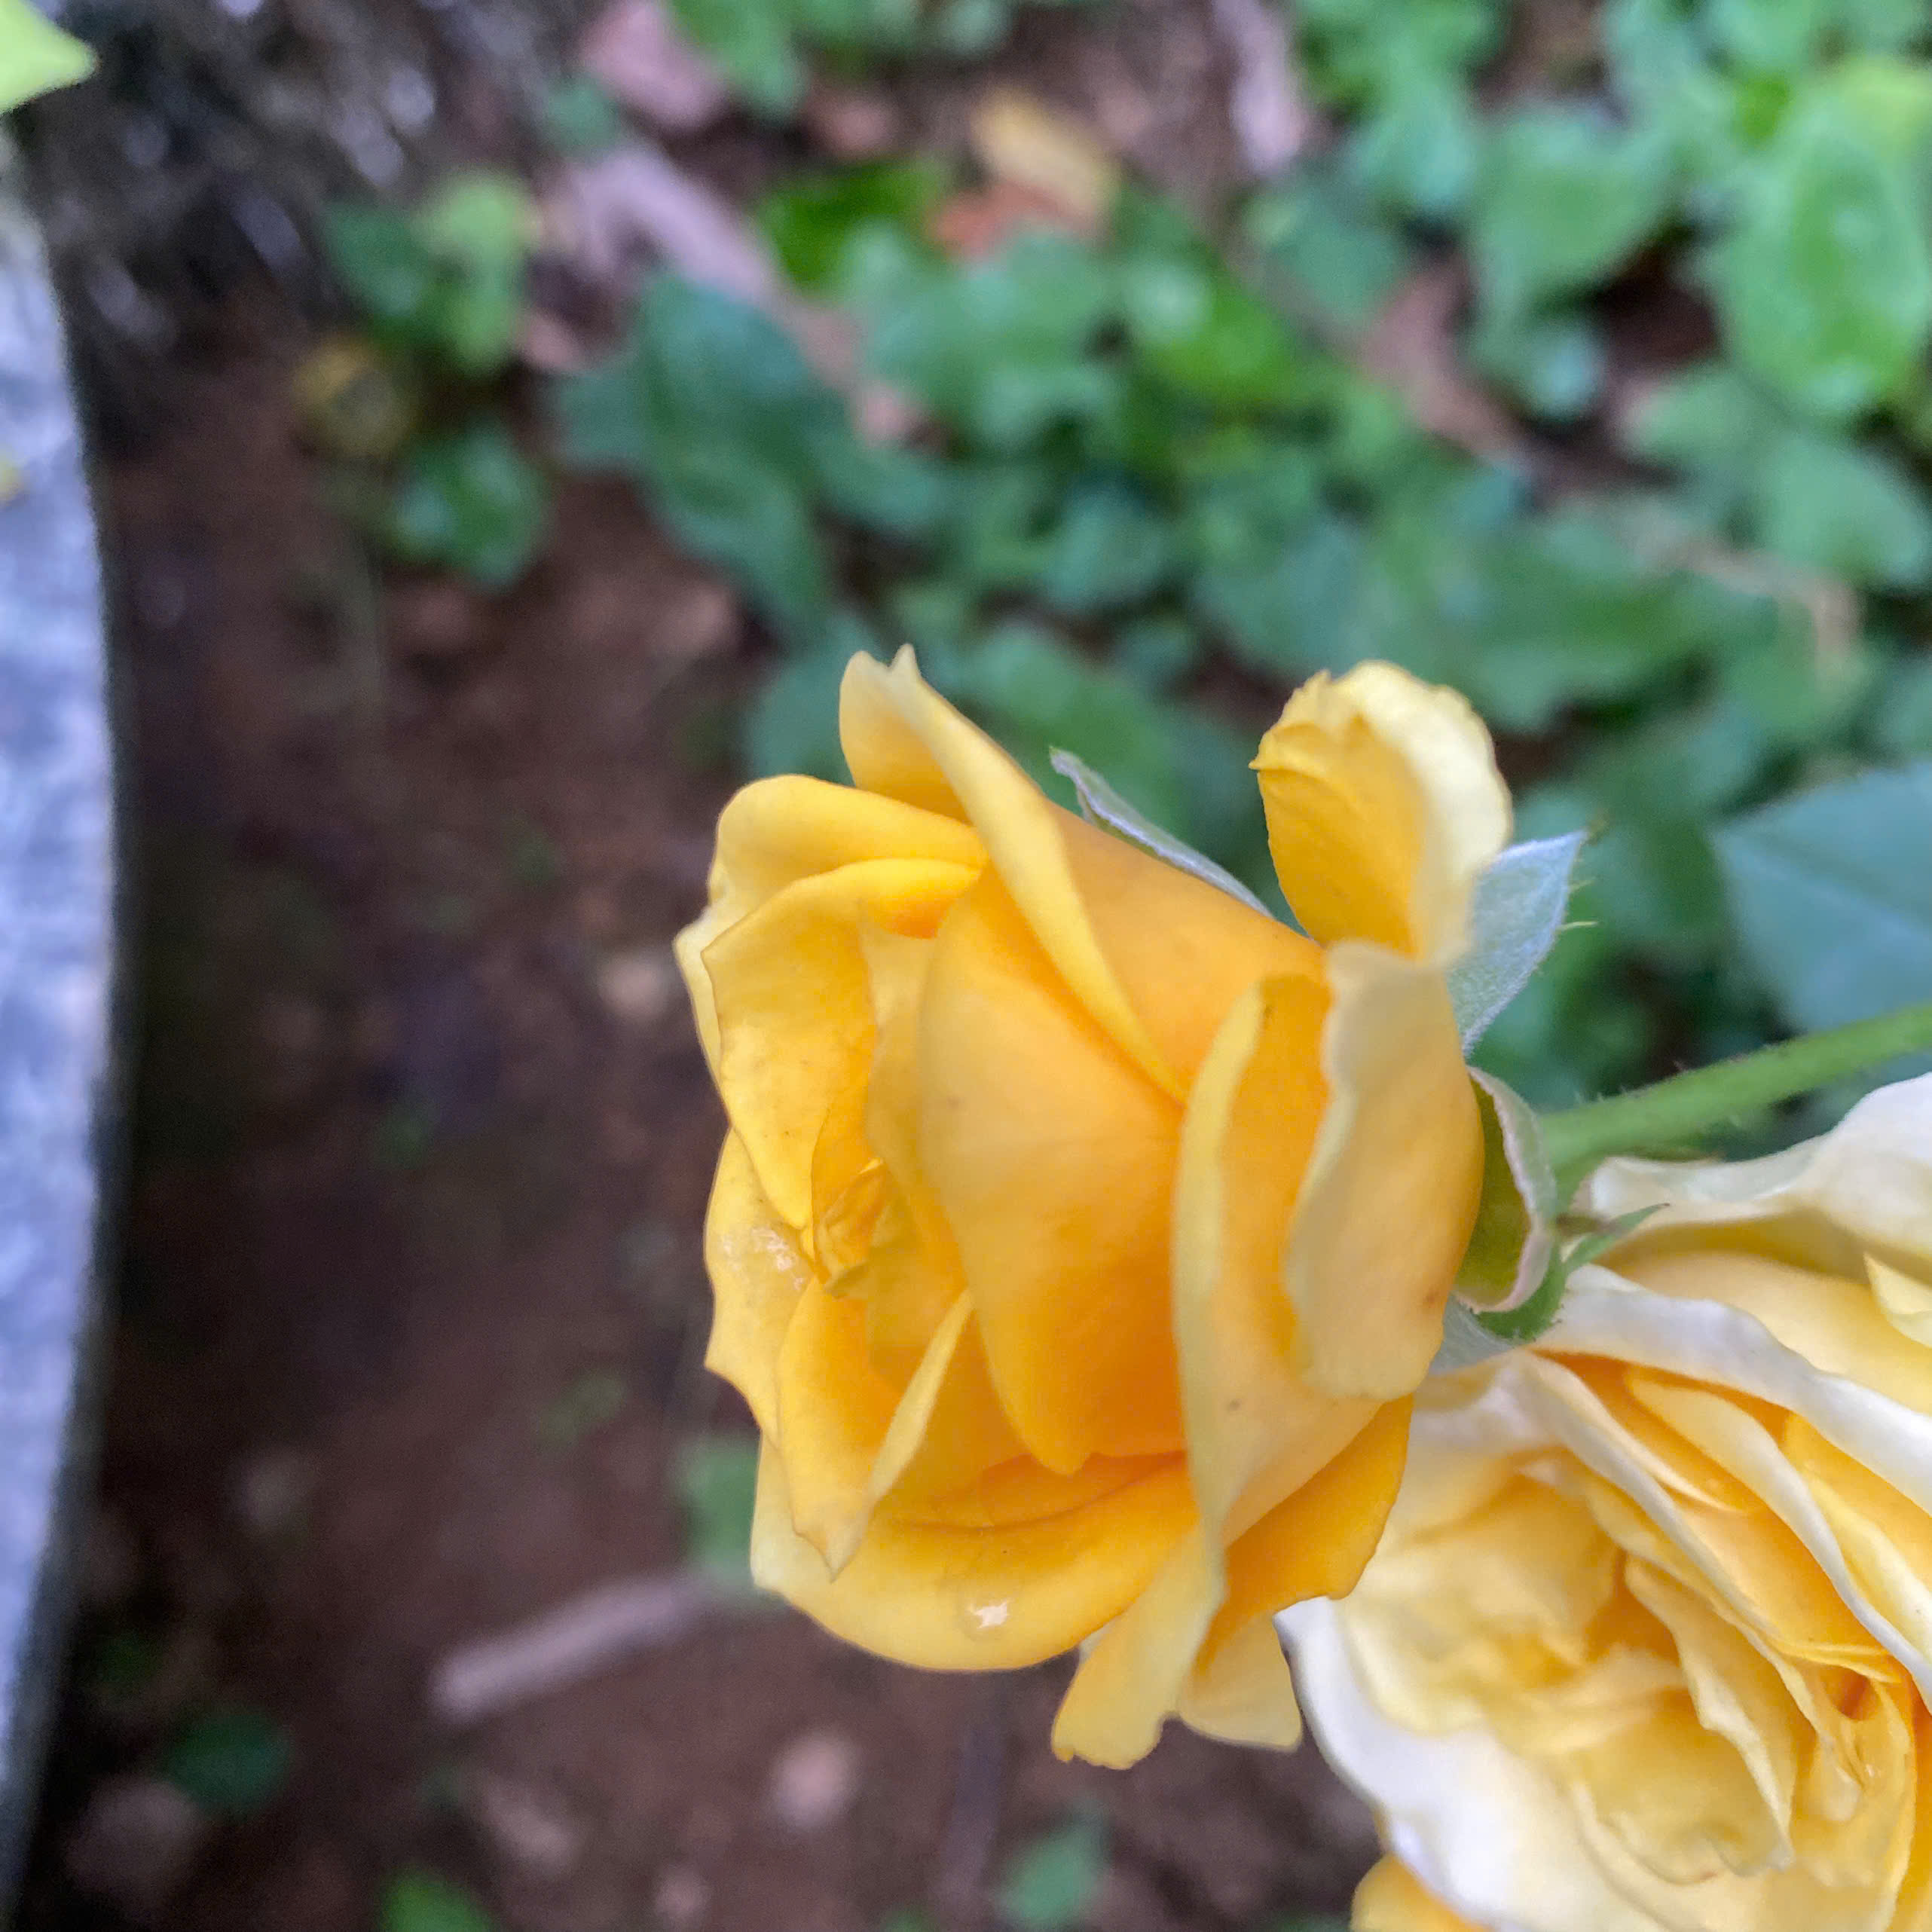hoa_thuoc_duoc: (513, 508, 1932, 1921)
